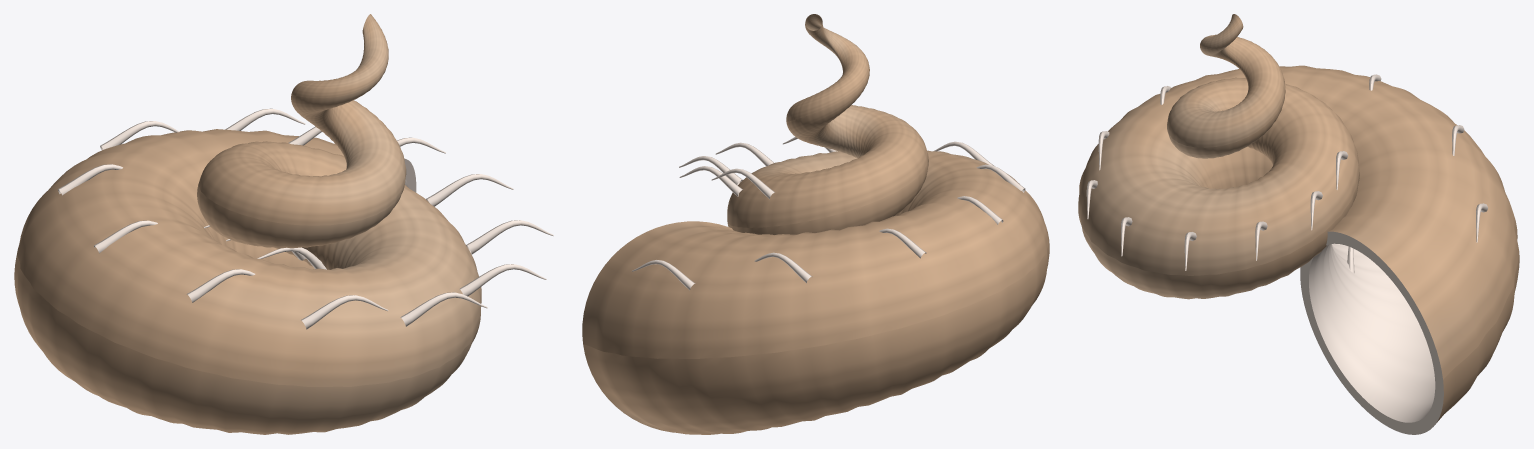
Rendered from venus-comb.glb.
The picture shows the model from 3 angles, left to right: view 1: azimuth 30°, elevation 25°; view 2: azimuth 150°, elevation 25°; view 3: azimuth 270°, elevation 25°; orthographic projection. The views are drawn at different scales.
Visible parts, largest first — view 1: venus-comb; view 2: venus-comb; view 3: venus-comb.
Part boxes in pixels (x1,y1,x2,y2): venus-comb: [14, 14, 553, 434]; venus-comb: [582, 14, 1049, 434]; venus-comb: [1078, 14, 1519, 434].
Size of the model in its own units: 1.54 by 1.53 by 1.57.
